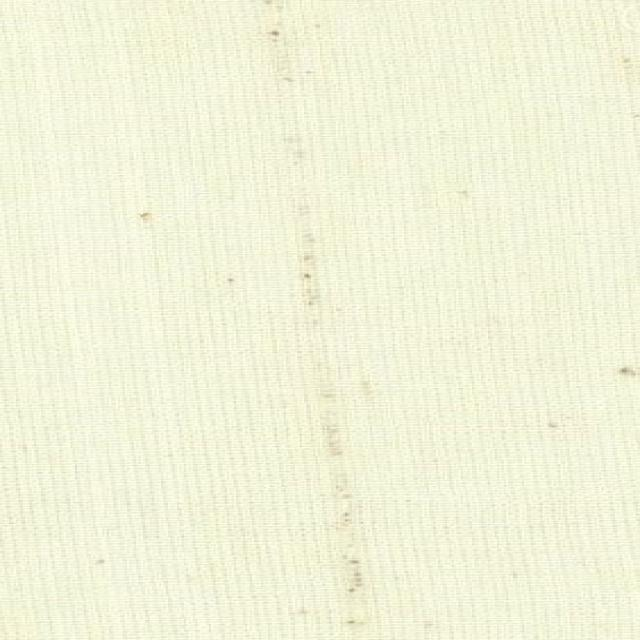Thread_other: (19, 4, 639, 640)
